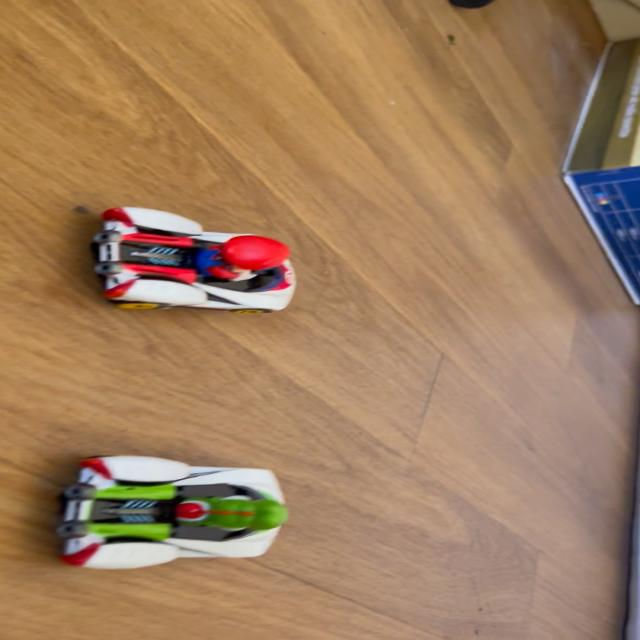mario: (66, 201, 311, 322)
yoshi: (39, 448, 309, 582)
